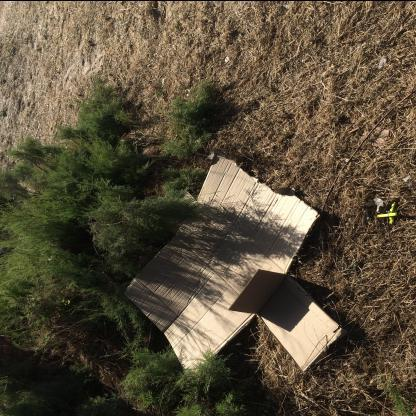karton: (127, 153, 349, 377)
plastik: (378, 202, 398, 224)
